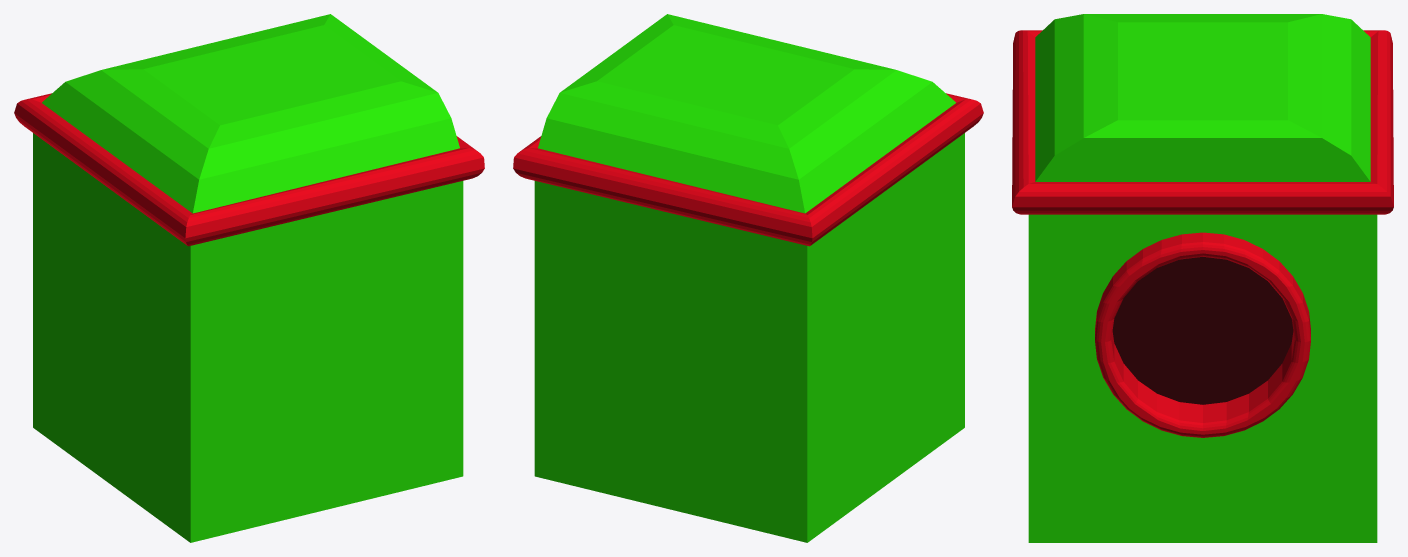
The model's file is Fan_Base.fbx.
The picture shows the model from 3 angles, left to right: view 1: azimuth 30°, elevation 25°; view 2: azimuth 150°, elevation 25°; view 3: azimuth 270°, elevation 25°; orthographic projection. The views are drawn at different scales.
Parts seen in each view (by area): view 1: Fan_Base; view 2: Fan_Base; view 3: Fan_Base.
Boxes of the visible parts, x1=… form: Fan_Base: x1=14, y1=14, x2=484, y2=542; Fan_Base: x1=513, y1=14, x2=983, y2=542; Fan_Base: x1=1012, y1=14, x2=1393, y2=542.
Bounding box in the file's own units: 562 × 650 × 547.
